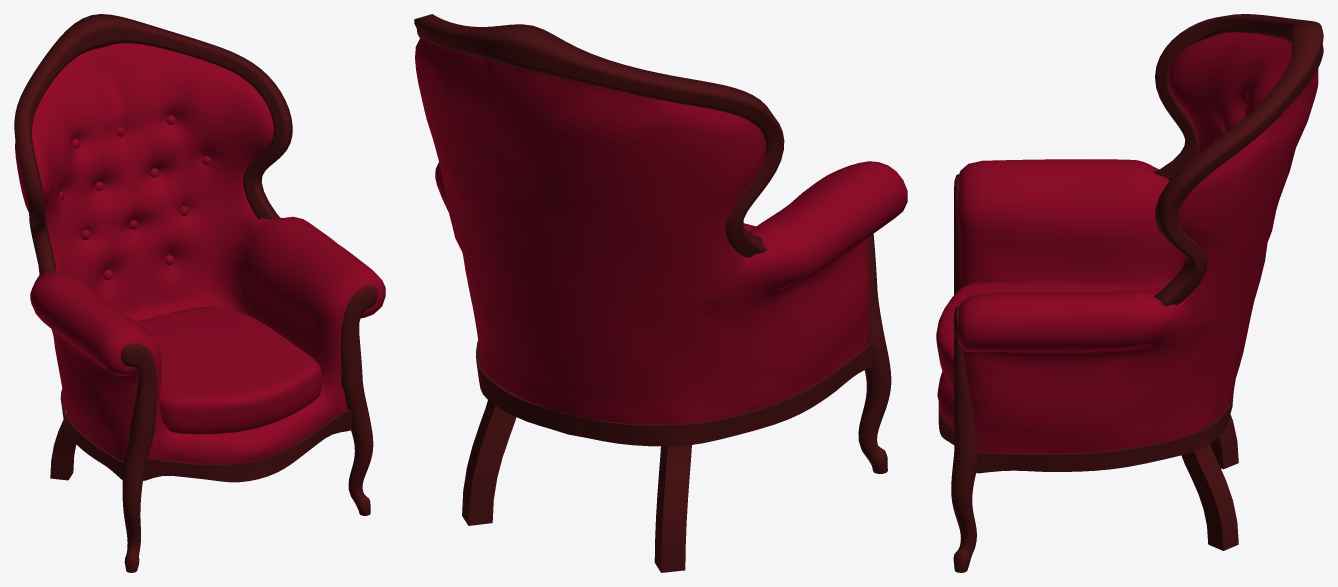
File: Armchair_H.fbx
3 views of the same model, side by side, from view 1: azimuth 30°, elevation 25°; view 2: azimuth 150°, elevation 25°; view 3: azimuth 270°, elevation 25° (orthographic). The views are drawn at different scales.
Visible parts, largest first — view 1: Armchair_H; view 2: Armchair_H; view 3: Armchair_H.
Part boxes in pixels (bbox=[...]): Armchair_H: bbox=[14, 14, 385, 572]; Armchair_H: bbox=[414, 14, 907, 572]; Armchair_H: bbox=[936, 14, 1323, 572].
Size of the model in its own units: 1.36 by 1.89 by 1.4.
